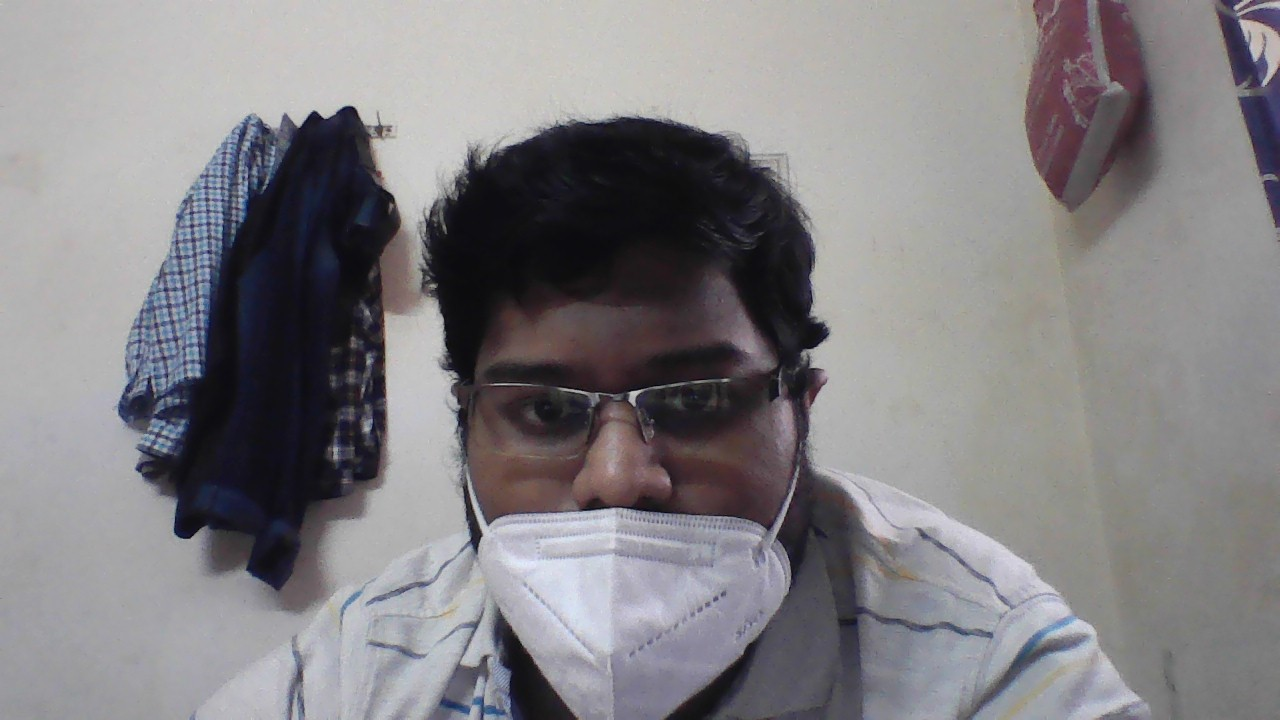NoMask: (449, 436, 844, 646)
